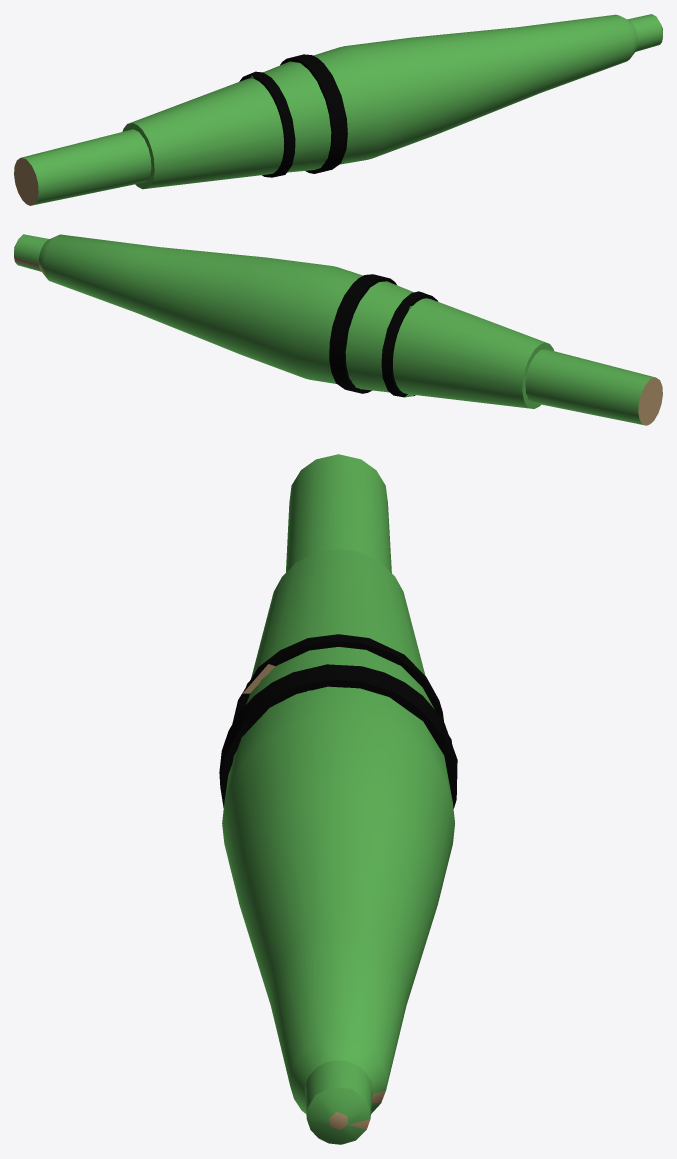
File: Bazooka Ammo.fbx
3 renders of one model, top to bottom at view 1: azimuth 30°, elevation 25°; view 2: azimuth 150°, elevation 25°; view 3: azimuth 270°, elevation 25°, orthographic. The views are drawn at different scales.
Parts seen in each view (by area): view 1: Cylinder.002; view 2: Cylinder.002; view 3: Cylinder.002.
Part boxes in pixels (x1,y1,x2,y2): Cylinder.002: [14, 14, 662, 205]; Cylinder.002: [14, 234, 662, 425]; Cylinder.002: [219, 454, 457, 1144].
Size of the model in its own units: 19.83 by 19.83 by 122.
